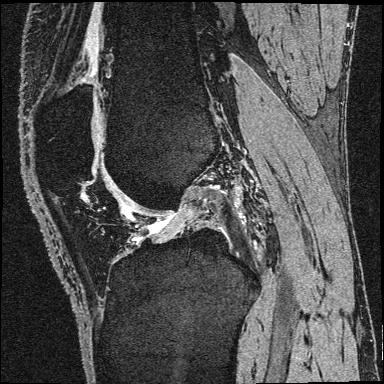KneeJointArea_Lat: (33, 84, 262, 322)
